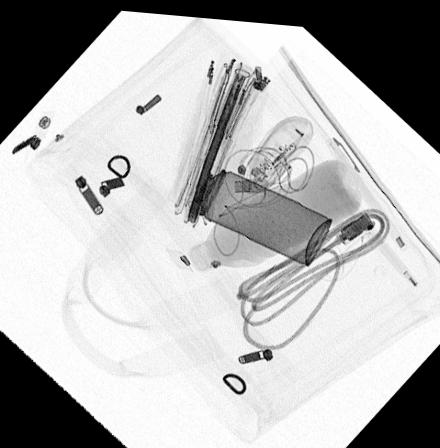Sprayer: (167, 152, 333, 260)
